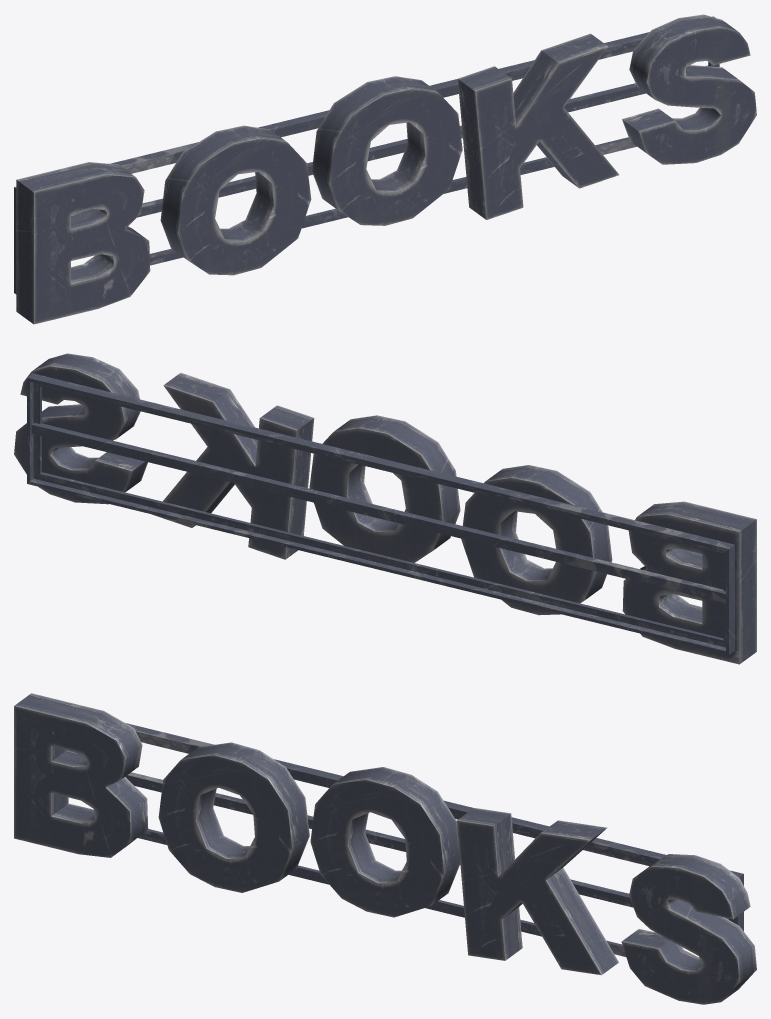
The model's file is Books1_LOD1.fbx.
The picture shows the model from 3 angles, top to bottom: view 1: azimuth 30°, elevation 25°; view 2: azimuth 150°, elevation 25°; view 3: azimuth 330°, elevation 25°; orthographic projection.
Parts seen in each view (by area): view 1: polySurface266; view 2: polySurface266; view 3: polySurface266.
Boxes of the visible parts, x1,y1,x2,y2 form: polySurface266: (14, 14, 756, 324); polySurface266: (14, 353, 756, 664); polySurface266: (14, 693, 756, 1004).
Bounding box in the file's own units: 478 × 94.86 × 27.38.
1 material, 1 textured.
